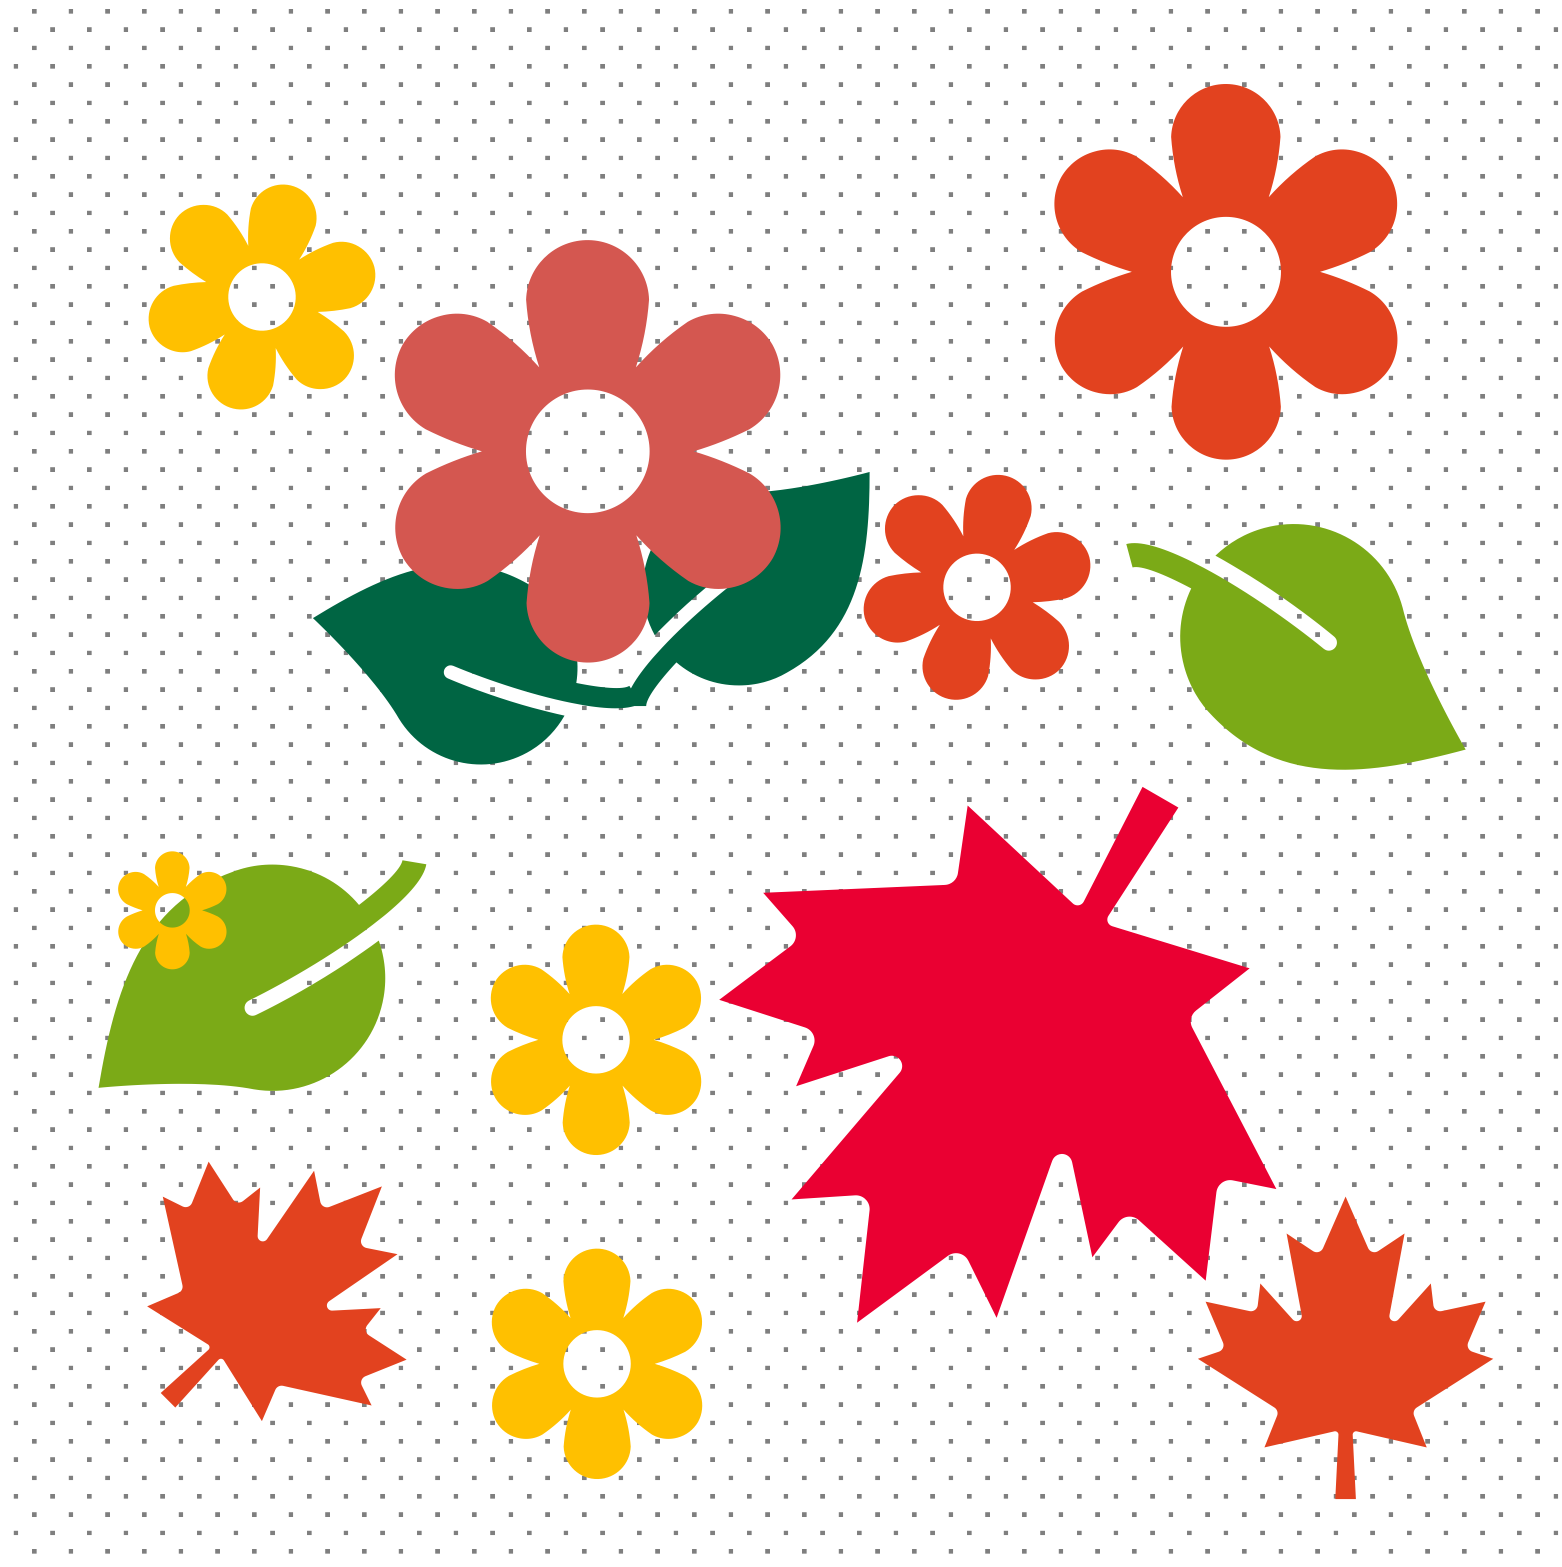flower: (388, 235, 785, 665), (1050, 82, 1405, 461), (142, 177, 380, 419), (855, 469, 1094, 707), (481, 920, 715, 1161), (485, 1241, 709, 1485), (104, 844, 239, 982)
leaf: (712, 777, 1282, 1328), (1197, 1193, 1500, 1505), (1120, 512, 1472, 780), (92, 850, 428, 1096), (146, 1152, 411, 1435), (310, 564, 634, 770), (628, 464, 881, 714)
